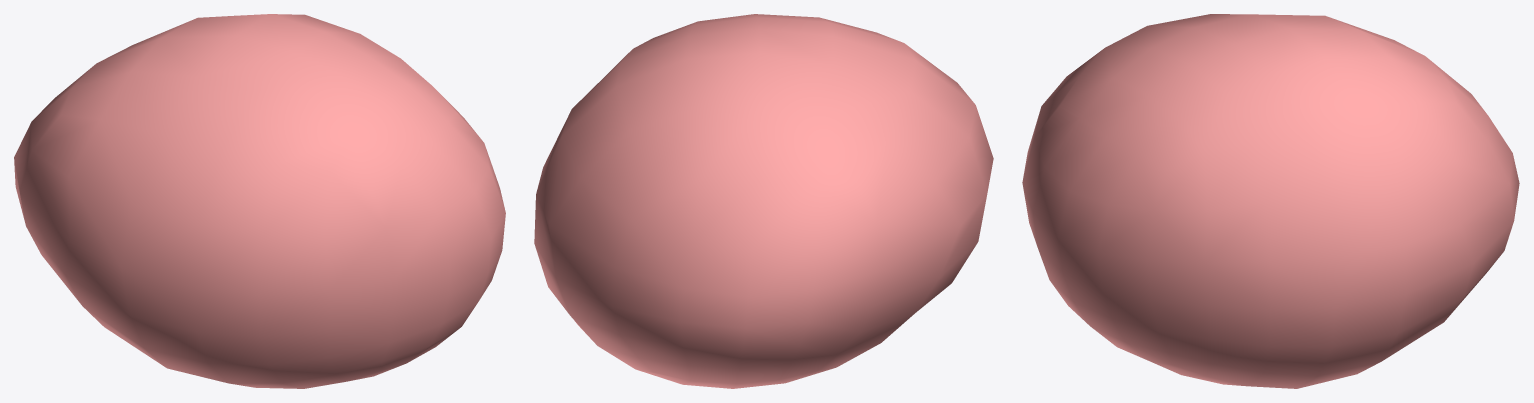
File: Potato_27.obj
3 renders of one model, left to right at view 1: azimuth 30°, elevation 25°; view 2: azimuth 150°, elevation 25°; view 3: azimuth 270°, elevation 25°, orthographic. The views are drawn at different scales.
Size of the model in its own units: 0.1043 by 0.0835 by 0.1186.
